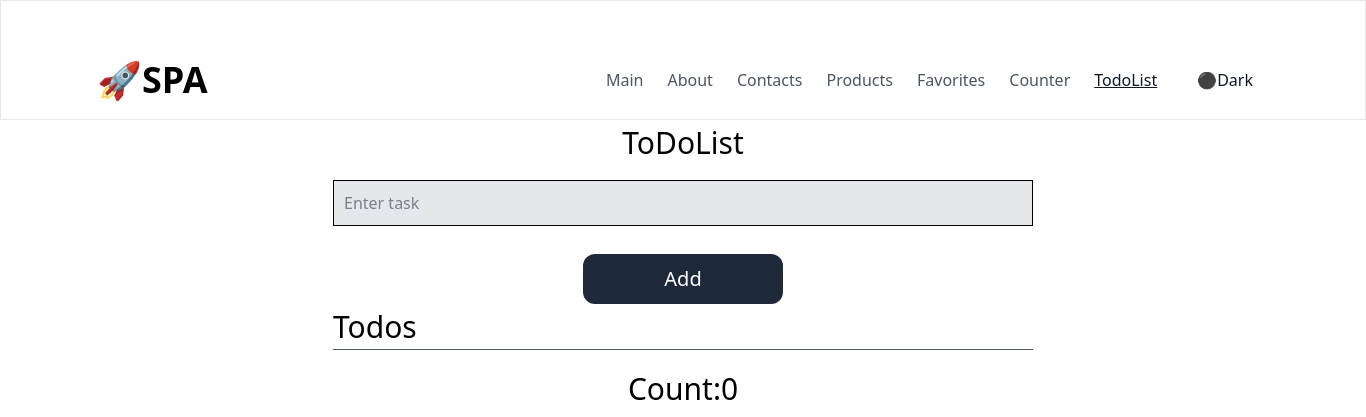
Test: template spec › error after empty input
The image size is (1366, 417).
Click the button "Add" at coordinates (683, 279), box [583,254,783,304]
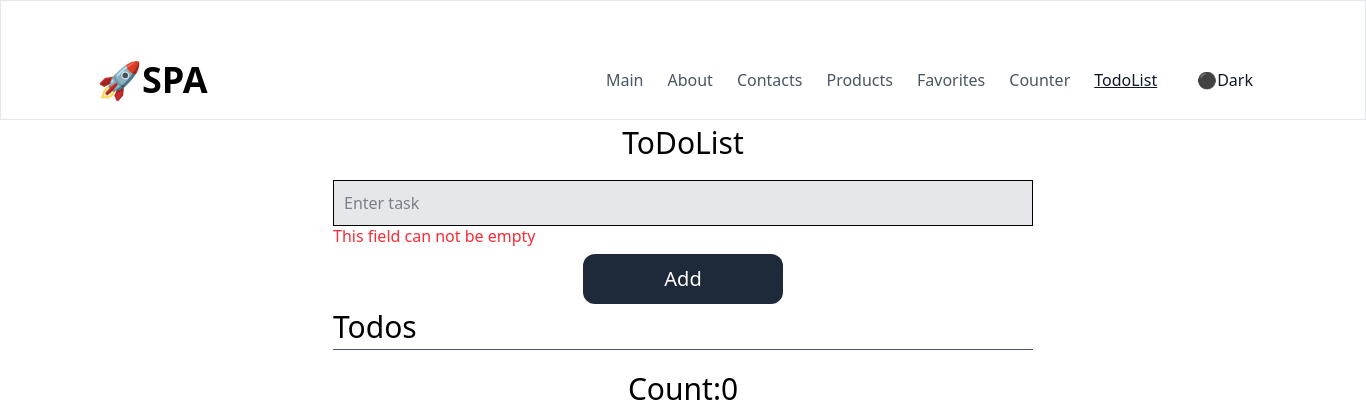
Expected: the text with test id "error-message" reads "This field can not be empty", [333,225,536,247]
